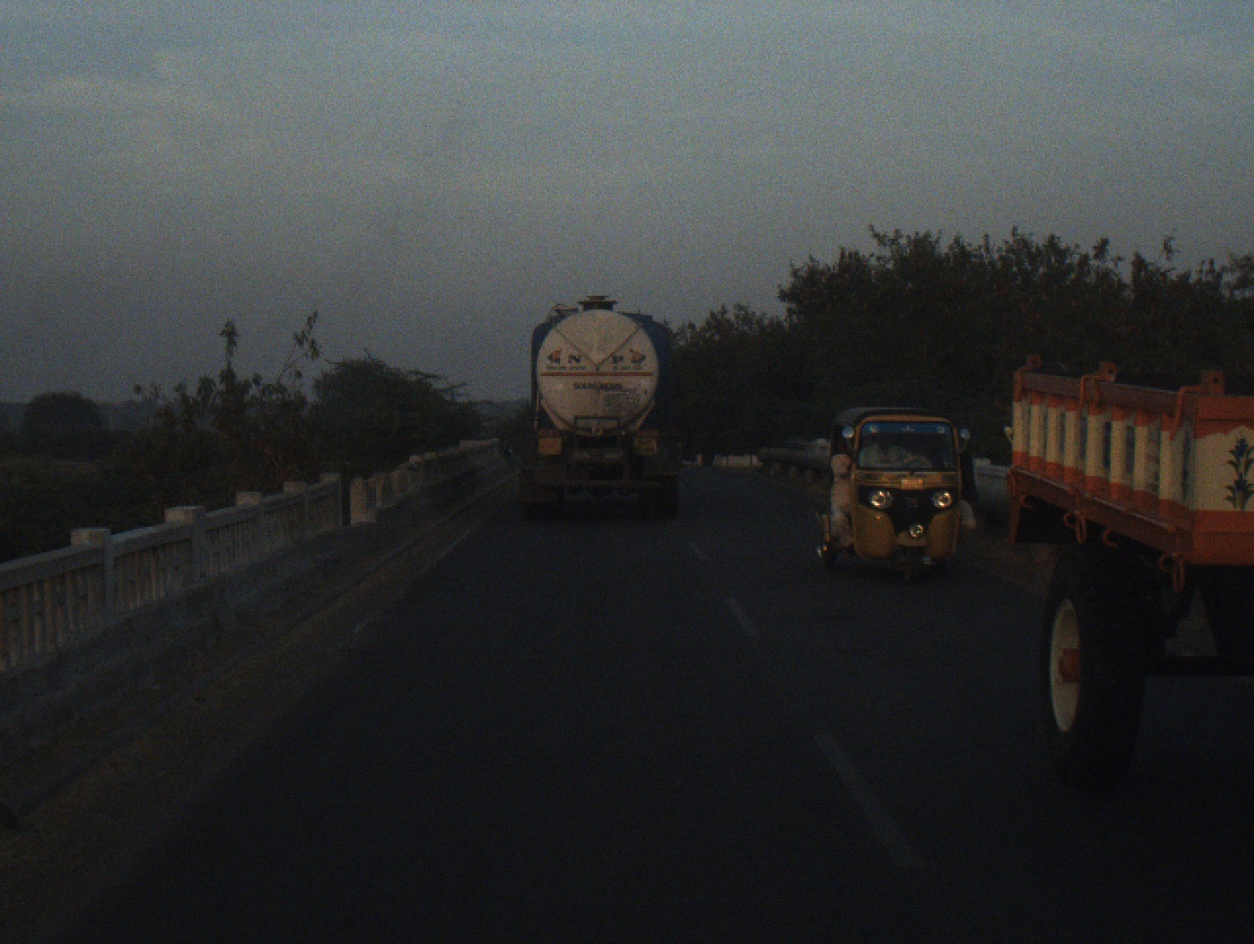autorickshaw: (811, 402, 976, 589)
truck: (516, 292, 684, 523)
vehicle fallback: (1002, 338, 1254, 797)
